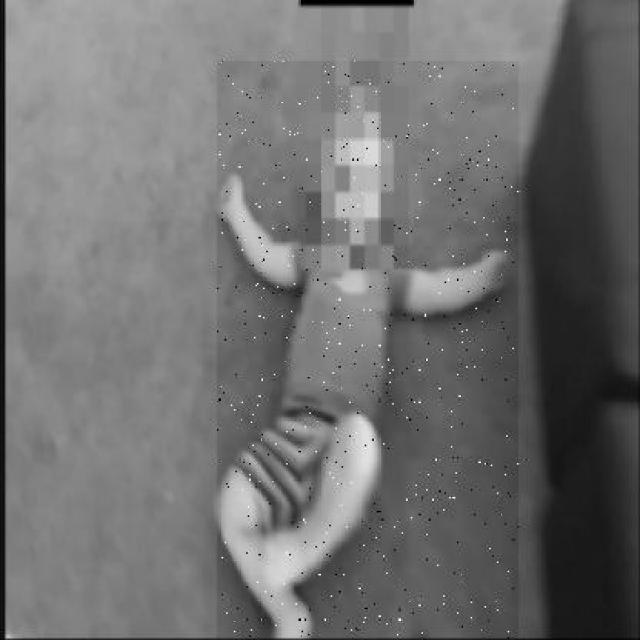child: (217, 60, 519, 638)
